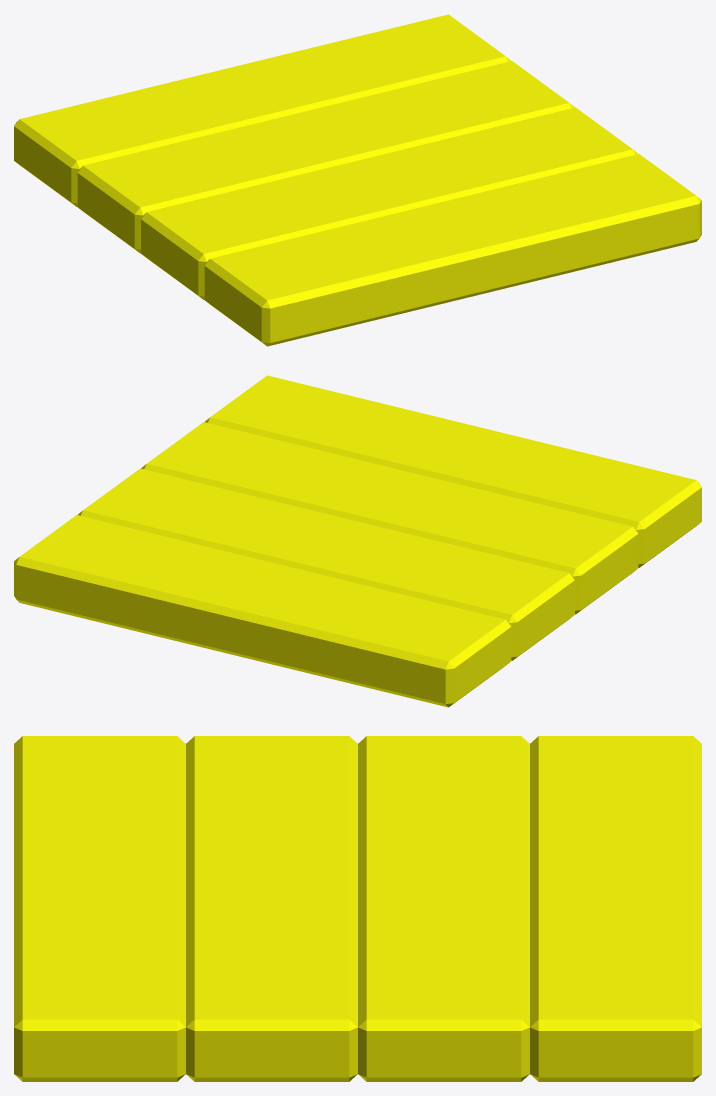
File: kaykit-crate-lid.glb
3 views of the same model, one above another, from view 1: azimuth 30°, elevation 25°; view 2: azimuth 150°, elevation 25°; view 3: azimuth 270°, elevation 25° (orthographic). The views are drawn at different scales.
Visible parts, largest first — view 1: crate_lid; view 2: crate_lid; view 3: crate_lid.
Boxes of the visible parts, x1,y1,x2,y2 form: crate_lid: (14,14,701,346); crate_lid: (14,375,701,707); crate_lid: (14,736,701,1081).
Size of the model in its own units: 2 by 0.2 by 2.
